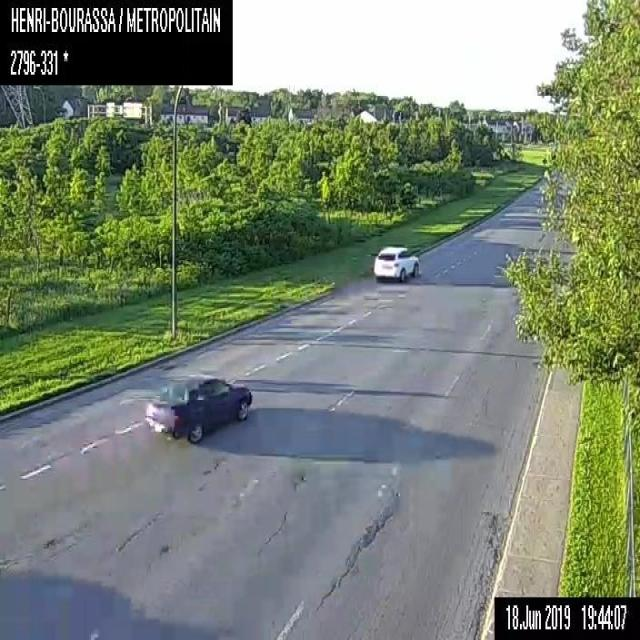vehicle: (145, 374, 252, 442), (373, 244, 420, 283)
